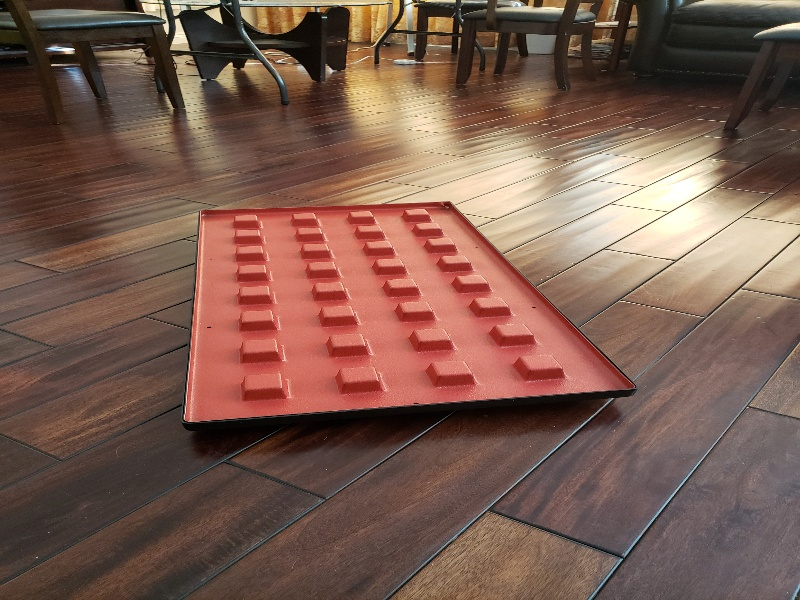skystone_base: (181, 200, 647, 431)
